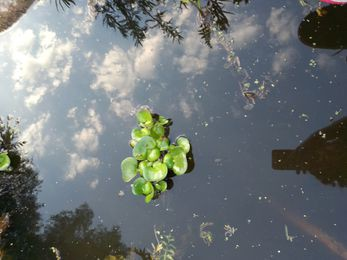water_hyacinth: (118, 101, 198, 206)
